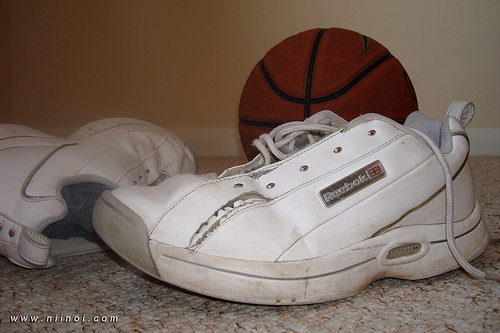basketball: (239, 23, 420, 164)
